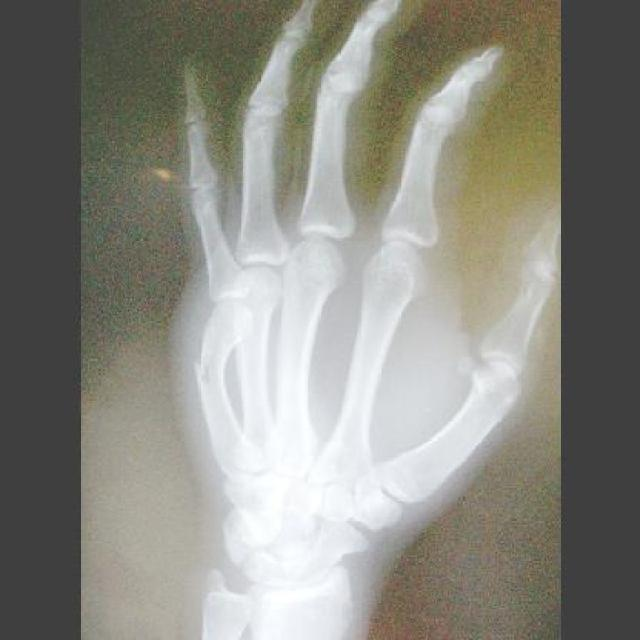Fracture: (193, 337, 230, 385)
